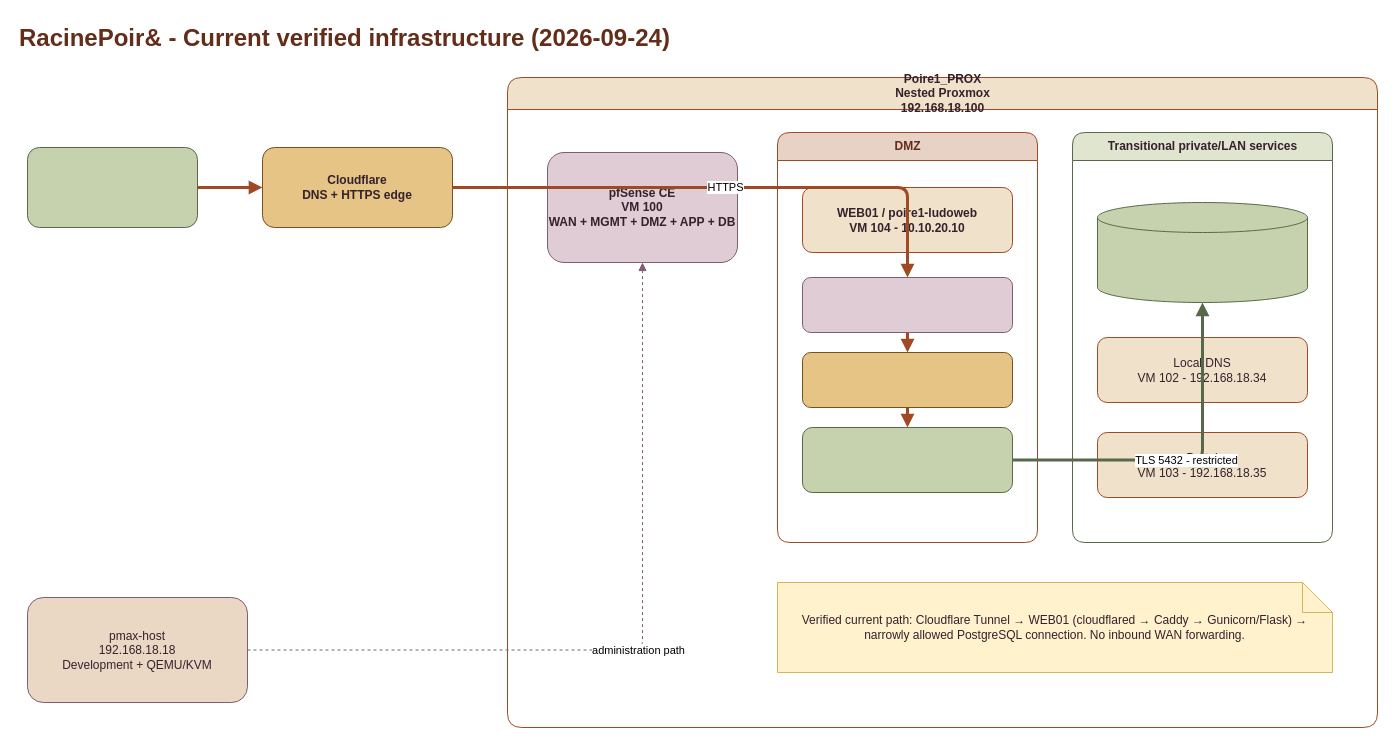
This 1395x745 diagram has some shape labels left out. Here are the shapes that lost their labels. From the top down, the centre of each, then its label:
the point at 112,187: Internet clients
the point at 1202,252: SQL01 / PostgreSQL VM 101 - 192.168.18.30 TLS required
the point at 907,304: cloudflared outbound QUIC tunnel
the point at 907,380: Caddy origin :80
the point at 907,459: Gunicorn + Flask loopback :8000
